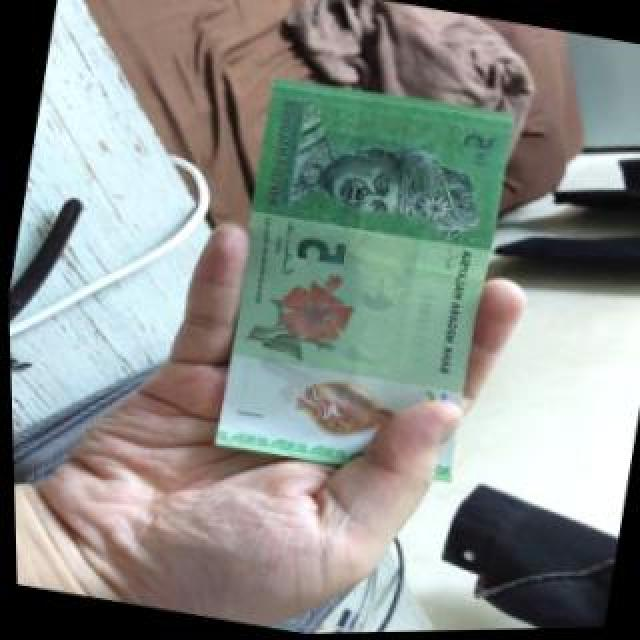5 Ringgit: (200, 60, 526, 494)
